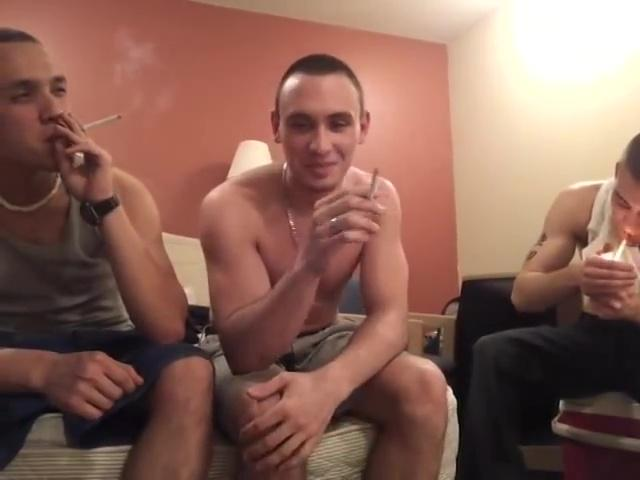cigarette: (75, 110, 130, 134), (365, 167, 381, 202), (614, 238, 630, 265)
